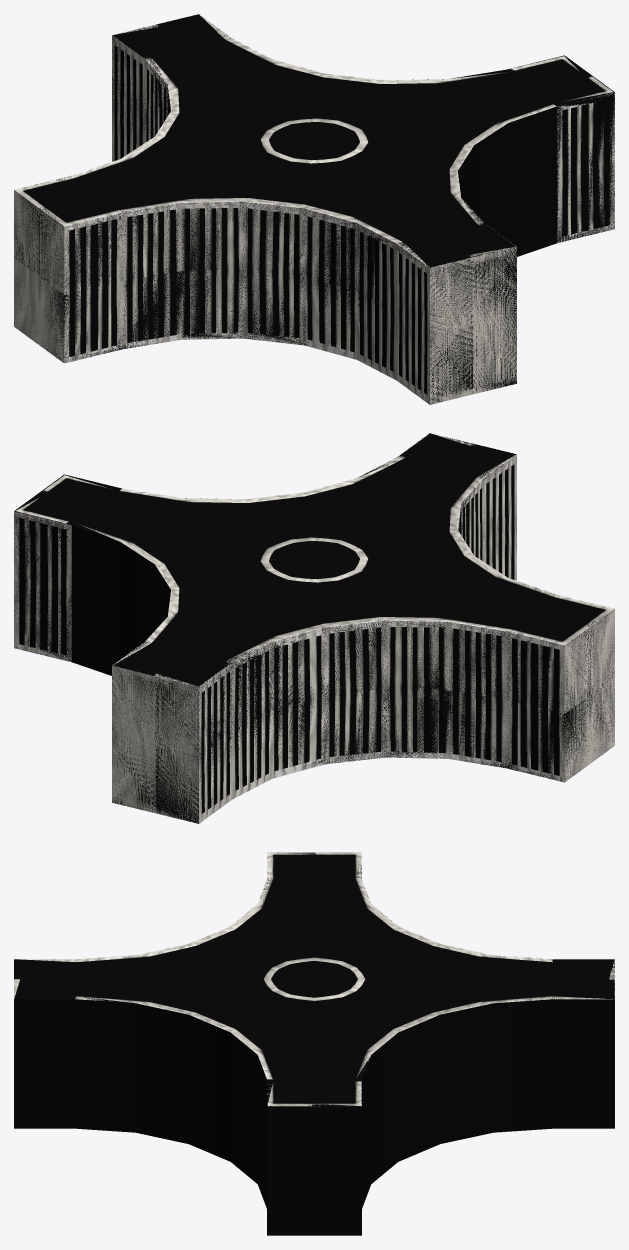
The picture shows the model from 3 angles, top to bottom: view 1: azimuth 30°, elevation 25°; view 2: azimuth 150°, elevation 25°; view 3: azimuth 270°, elevation 25°; orthographic projection. The views are drawn at different scales.
Parts seen in each view (by area): view 1: 1_object2baseaura, 1_object2baseb; view 2: 1_object2baseaura, 1_object2baseb; view 3: 1_object2baseaura, 1_object2baseb.
Boxes of the visible parts, bbox=[...] form: 1_object2baseaura: bbox=[14, 14, 614, 404]; 1_object2baseb: bbox=[14, 14, 614, 404]; 1_object2baseaura: bbox=[14, 433, 614, 823]; 1_object2baseb: bbox=[14, 433, 614, 823]; 1_object2baseaura: bbox=[14, 852, 614, 1235]; 1_object2baseb: bbox=[14, 852, 614, 1106].
Bounding box in the file's own units: 59.26 × 14.08 × 59.26.
3 materials, 3 textured.
